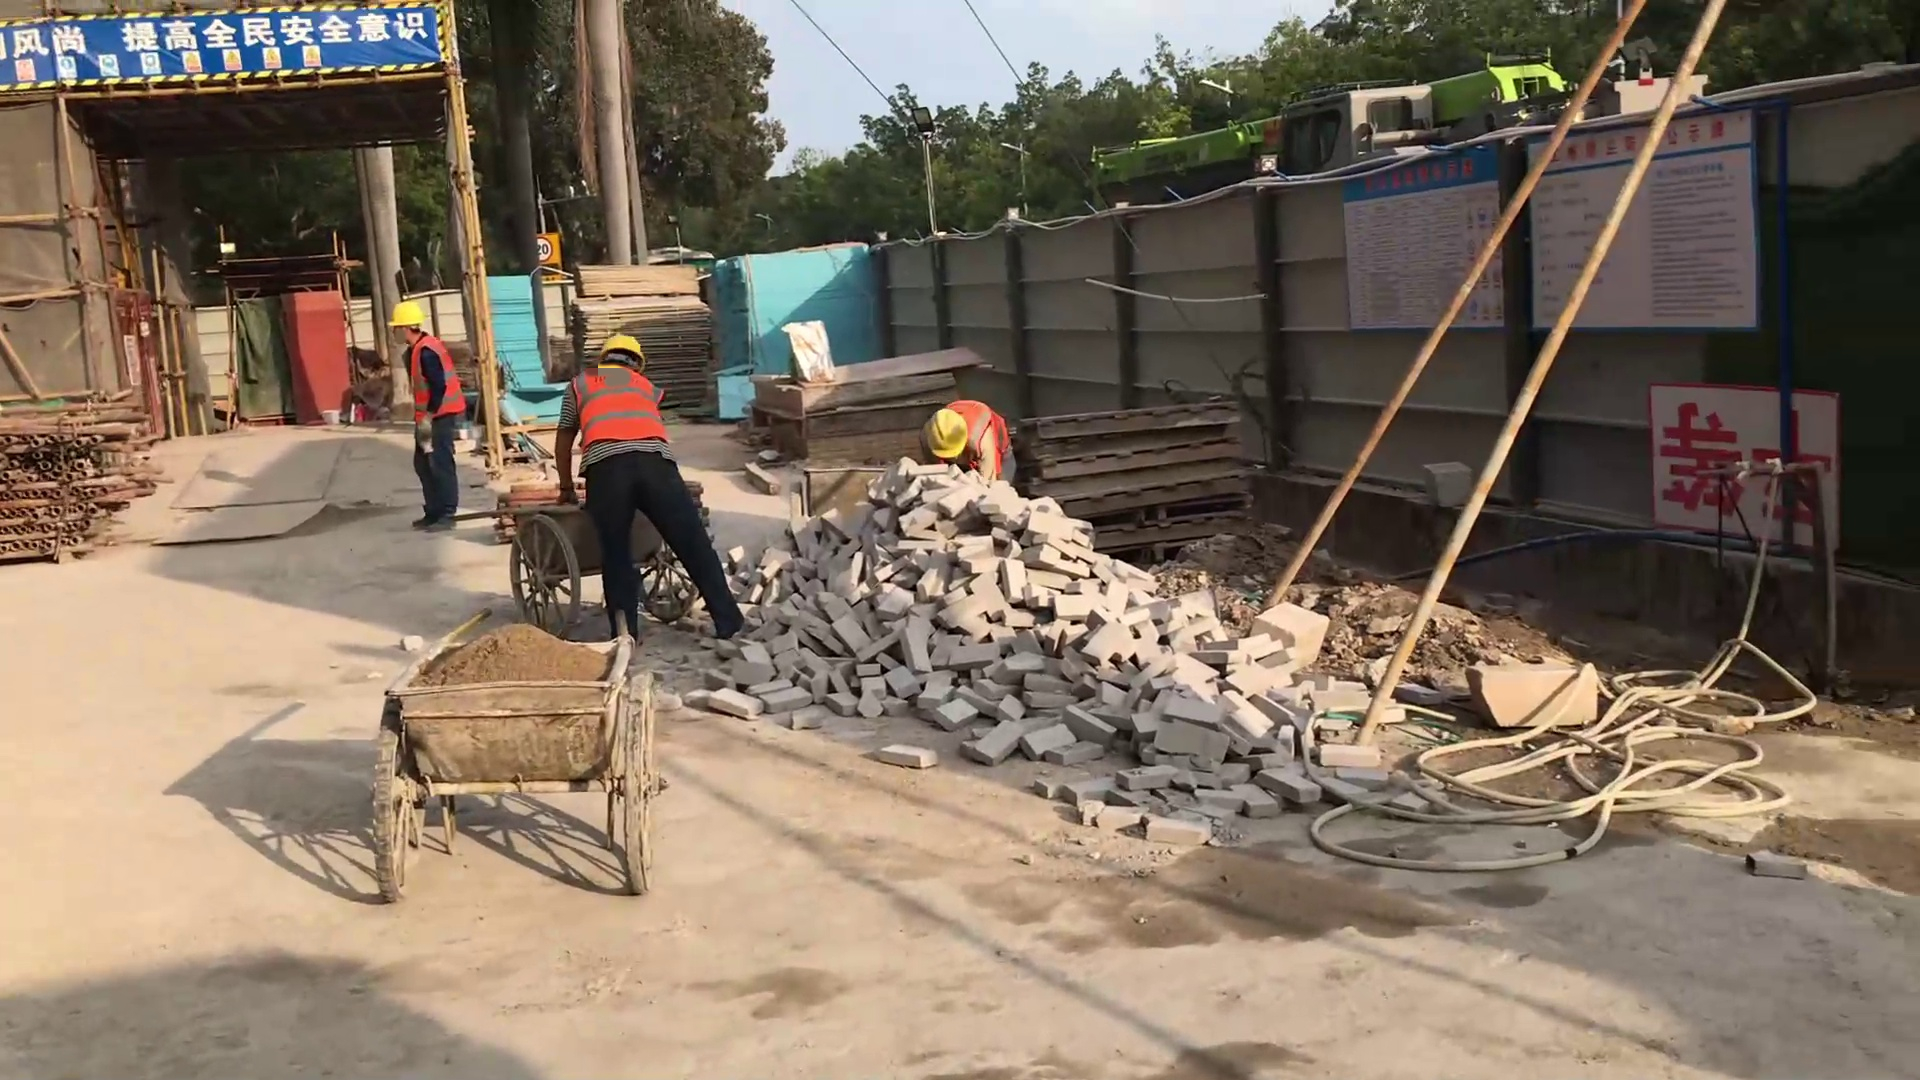board: (567, 262, 712, 412)
handcart: (367, 608, 671, 907), (442, 495, 699, 638), (781, 458, 889, 521)
helmet: (922, 407, 970, 462), (597, 332, 646, 371), (387, 299, 425, 333)
person: (553, 332, 747, 644), (384, 298, 468, 536), (918, 394, 1018, 492)
scaffold: (1, 390, 151, 567)
slogan: (1526, 103, 1758, 332), (1, 4, 451, 86), (1646, 380, 1846, 554), (1345, 138, 1505, 330), (533, 230, 562, 286)
vest: (571, 363, 667, 449), (409, 336, 466, 427), (945, 399, 1009, 462)
